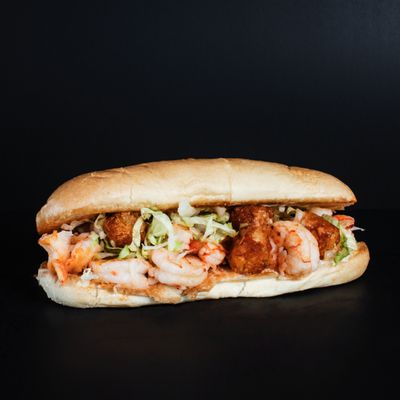soup: (34, 158, 365, 309)
